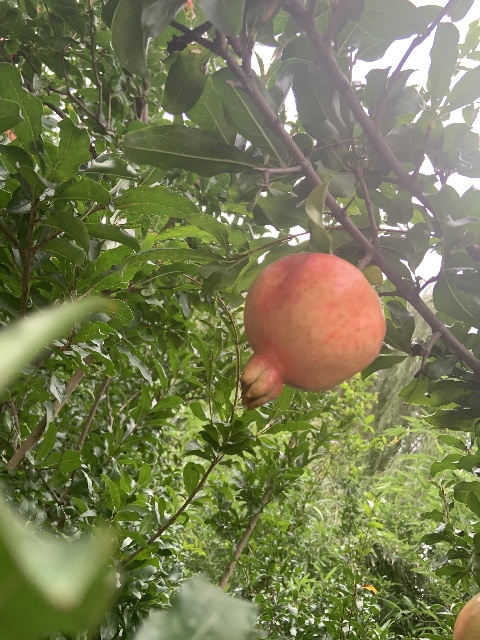ripe: (237, 252, 385, 409)
